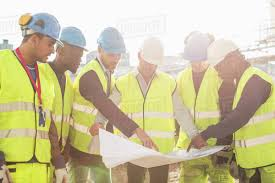helmet: (29, 10, 57, 39), (210, 40, 237, 65), (102, 28, 126, 52), (142, 37, 162, 65), (183, 36, 206, 59), (65, 26, 87, 49)
vest: (1, 55, 55, 161), (120, 76, 177, 153), (179, 72, 226, 149), (236, 78, 275, 165), (74, 63, 111, 153), (43, 65, 71, 155)
